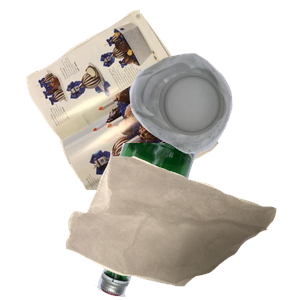glass: (93, 143, 284, 300)
paper: (24, 10, 235, 190)
plastic: (127, 51, 300, 197)
trash: (63, 149, 300, 300)
